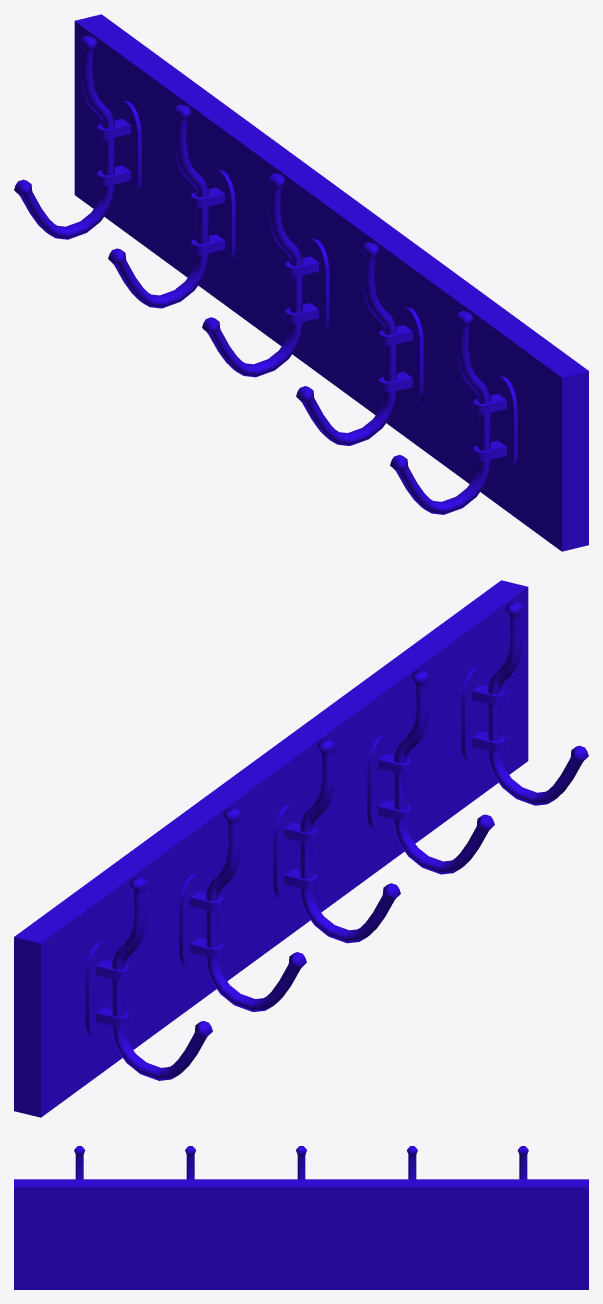
Rendered from HatRack.fbx.
3 views of the same model, one above another, from view 1: azimuth 30°, elevation 25°; view 2: azimuth 150°, elevation 25°; view 3: azimuth 270°, elevation 25° (orthographic). The views are drawn at different scales.
Parts seen in each view (by area): view 1: Cube; view 2: Cube; view 3: Cube.
Boxes of the visible parts, x1=… form: Cube: x1=14, y1=14, x2=588, y2=551; Cube: x1=14, y1=580, x2=588, y2=1117; Cube: x1=14, y1=1146, x2=588, y2=1289.
Bounding box in the file's own units: 49.02 × 69.2 × 294.
